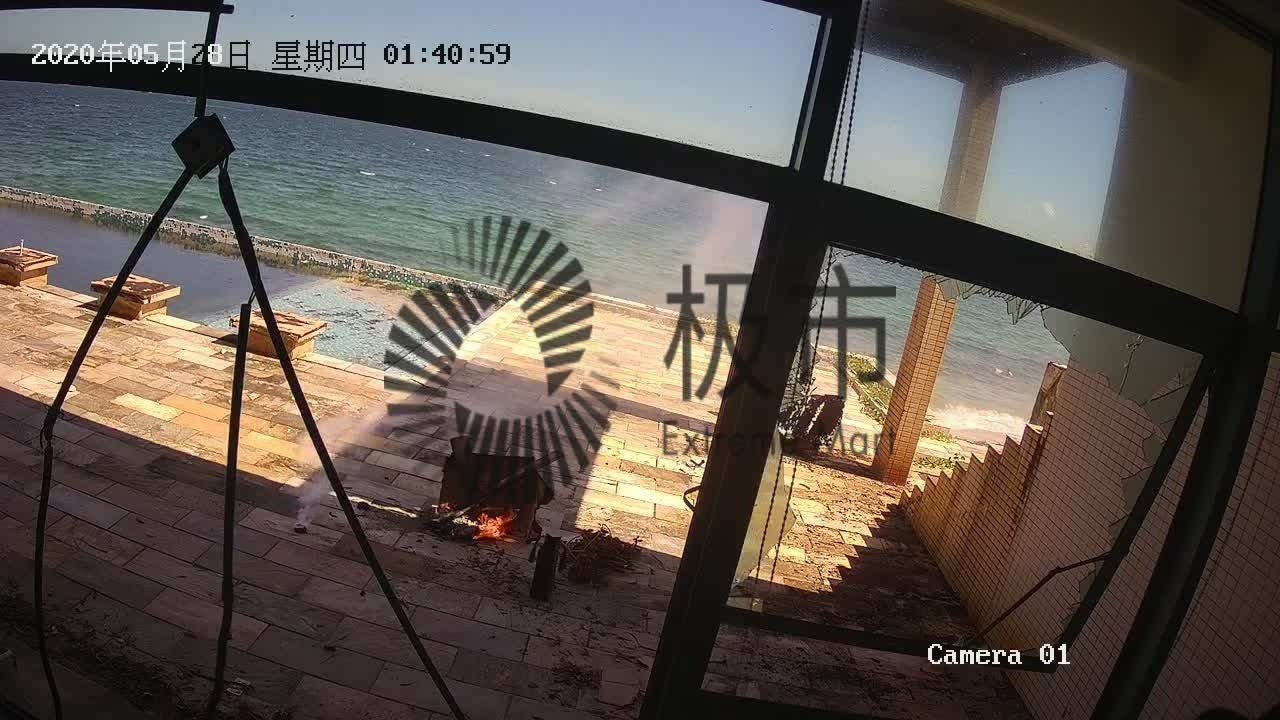fire: (450, 498, 519, 545)
